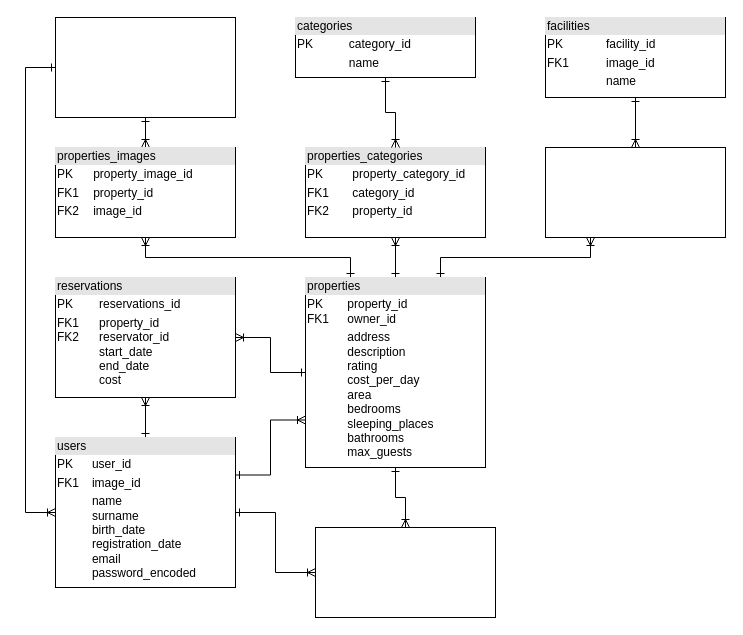
Some shapes in this 743 by 635 pixel diagram are drawn without their labels. Here are the shapes that lost their labels. From the top down, the centre of each, then its label:
point 145,67: images PK image_id original_file_name size is_preview_image bytes
point 635,192: properties_facilities PK property_facility_id FK1 category_id FK2 facility_id
point 405,572: favourites PK favourite_id FK1 FK2 property_id user_id
